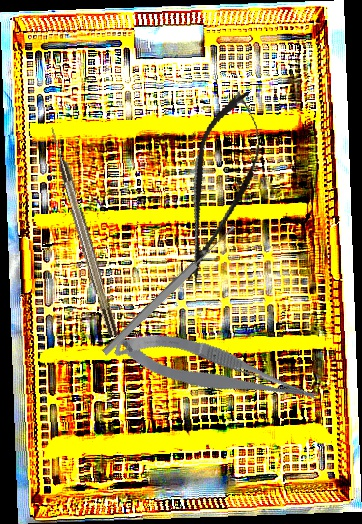Hook Surgical: (47, 125, 119, 339)
Micro Scissor: (112, 314, 322, 430), (163, 84, 276, 290)
Surgical Spoon: (100, 223, 239, 358)
